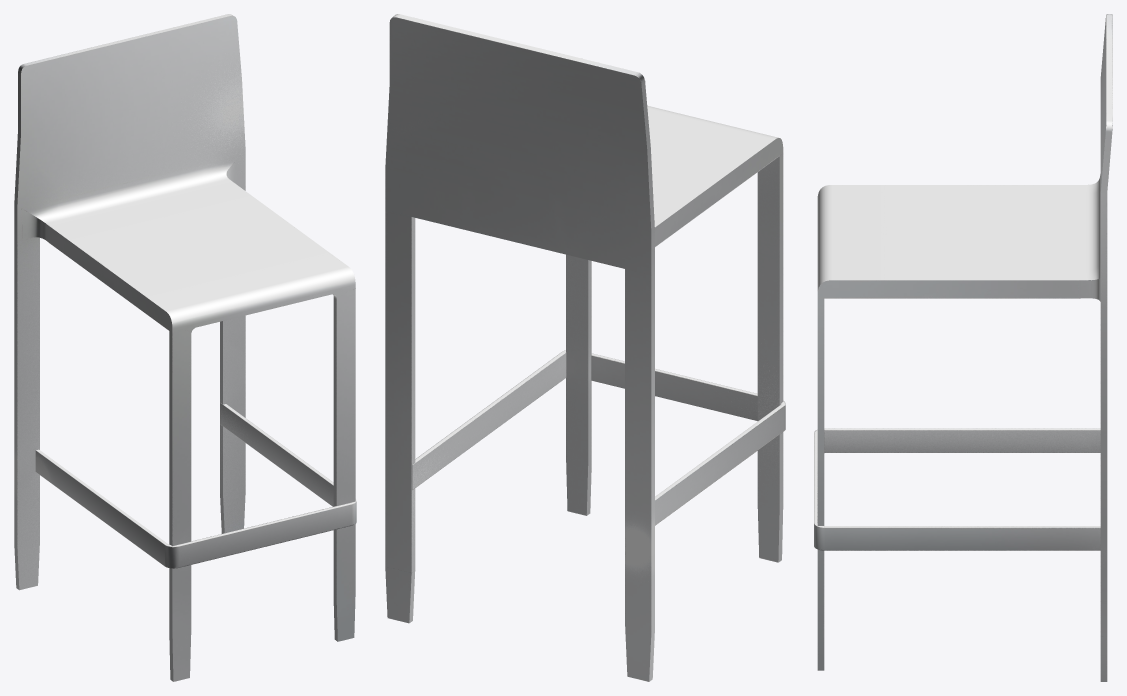
Rendered from volt_bar.glb.
3 views of the same model, side by side, from view 1: azimuth 30°, elevation 25°; view 2: azimuth 150°, elevation 25°; view 3: azimuth 270°, elevation 25° (orthographic). The views are drawn at different scales.
Visible parts, largest first — view 1: volt_bar-white; view 2: volt_bar-white; view 3: volt_bar-white.
Boxes of the visible parts, bbox=[...] form: volt_bar-white: bbox=[14, 14, 356, 681]; volt_bar-white: bbox=[385, 14, 785, 681]; volt_bar-white: bbox=[814, 14, 1112, 681].
Size of the model in its own units: 11.93 by 25.99 by 12.67.
Materials: 1 (1 with a texture image).
